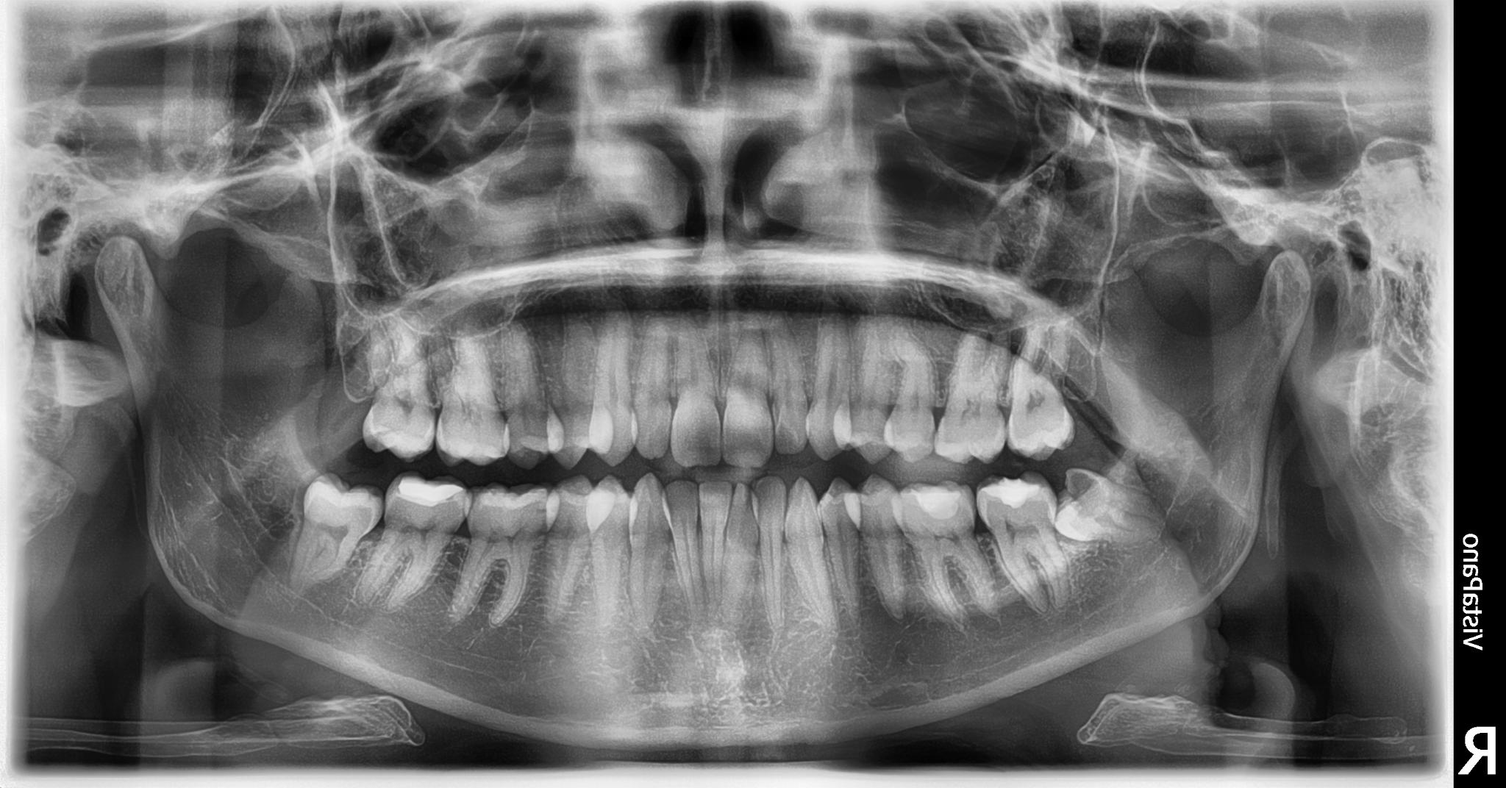Premolars: (563, 236, 1506, 695), (540, 195, 1506, 516), (255, 232, 712, 722), (187, 232, 500, 699)
